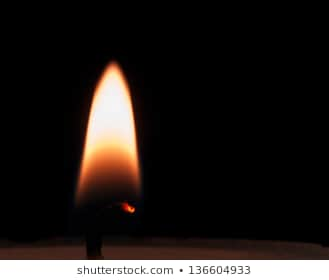Fire: (79, 59, 145, 201)
